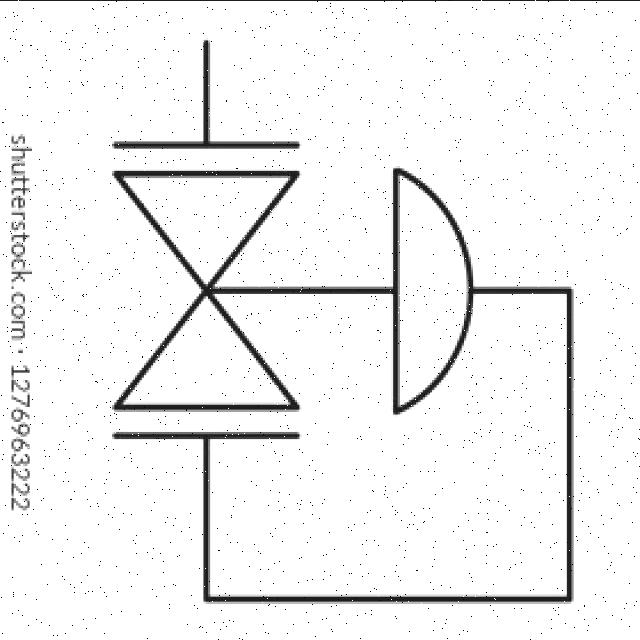Pneumatic-Diaphragm Gate Valve: (117, 170, 474, 406)
